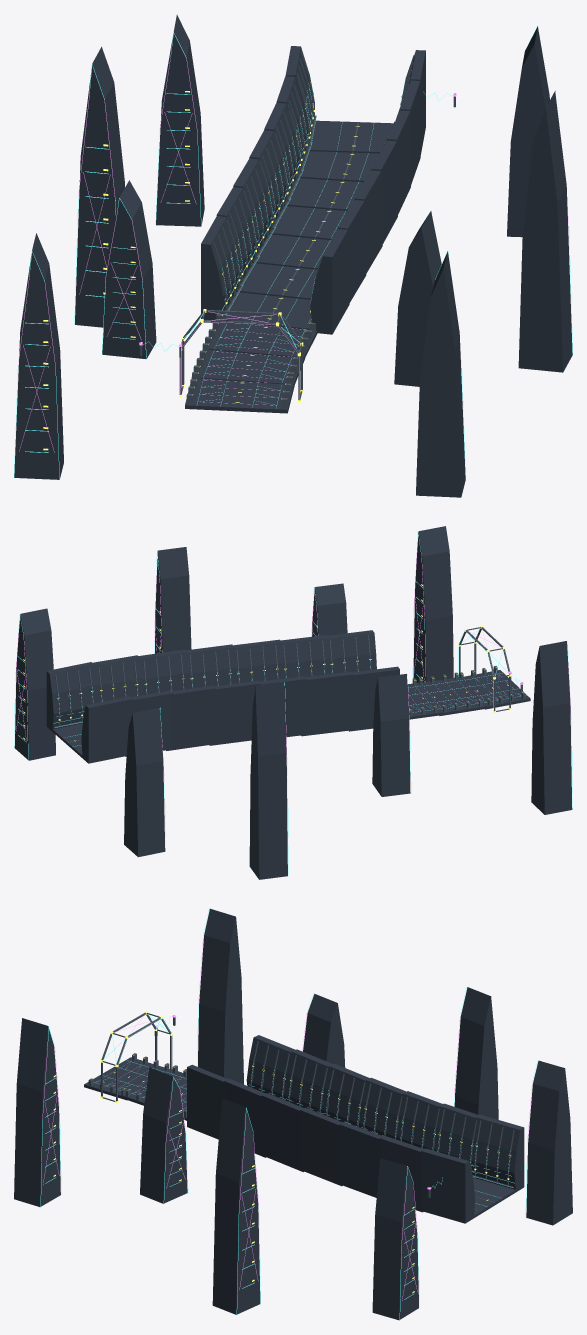
Rendered from route_batch_14.glb.
3 renders of one model, top to bottom at view 1: azimuth 30°, elevation 25°; view 2: azimuth 150°, elevation 25°; view 3: azimuth 270°, elevation 25°, orthographic. The views are drawn at different scales.
Visible parts, largest first — view 1: route_batch_14; view 2: route_batch_14; view 3: route_batch_14.
Part boxes in pixels (x1,y1,x2,y2): route_batch_14: (14, 15, 572, 497); route_batch_14: (14, 526, 572, 879); route_batch_14: (14, 908, 572, 1320).
Size of the model in its own units: 766 by 292 by 727.
